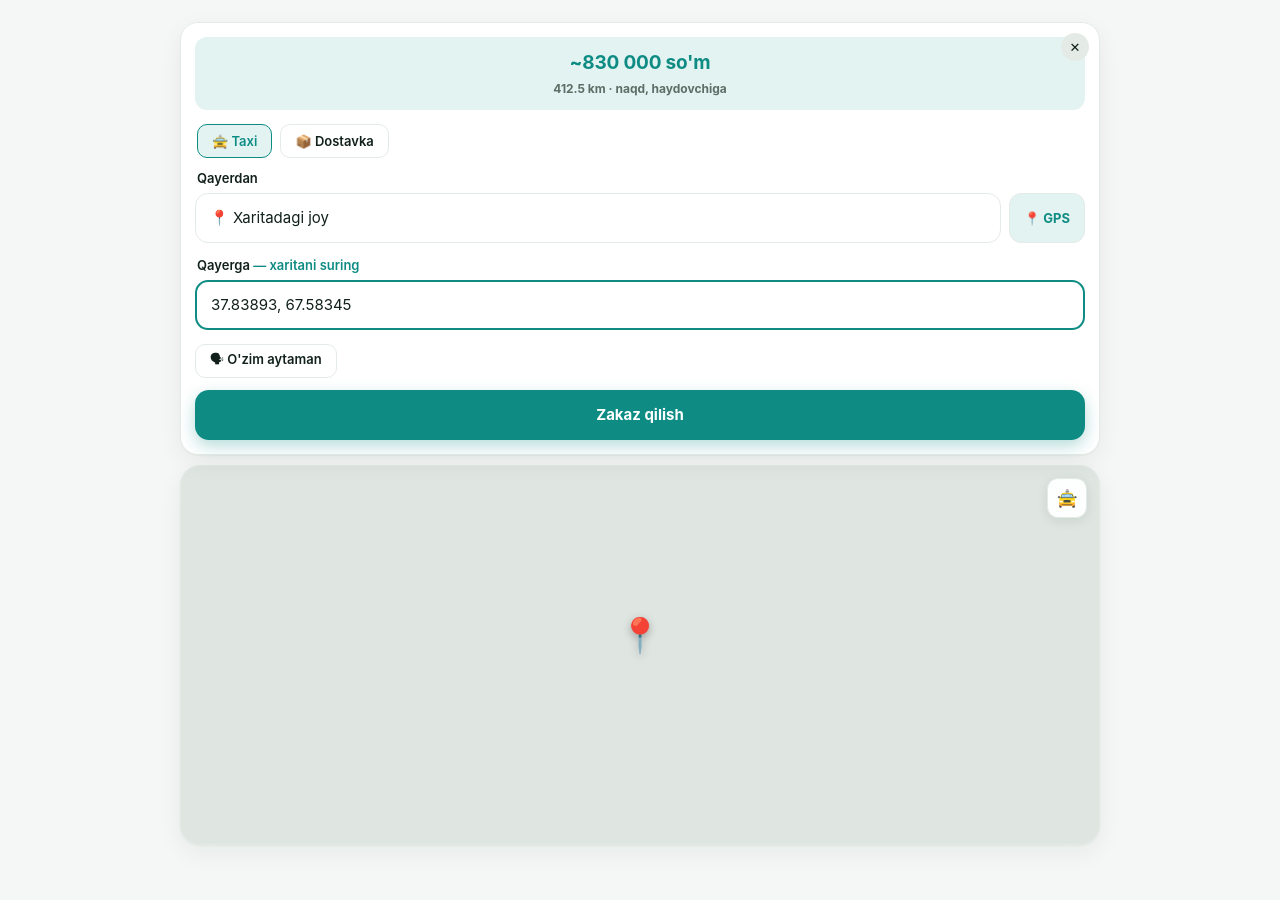
Test: TaxiCall › lets the explicit GPS button replace a manual place
Click the button with aria-label "Joriy joylashuvni olish".
click(1047, 218)  # box [1009,193,1085,243]
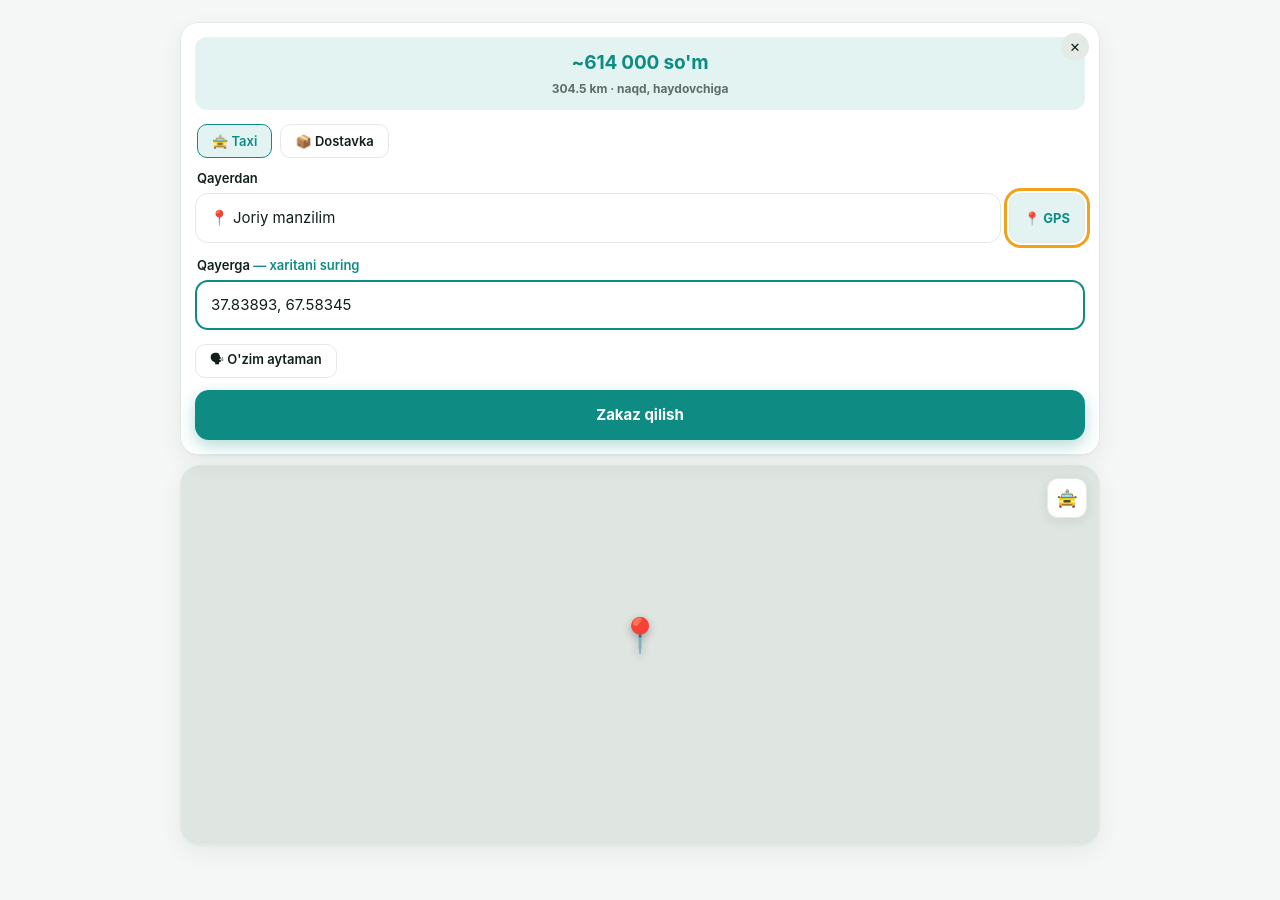
Expected: the button "📍 Joriy manzilim" is shown, [195,193,1001,243]
